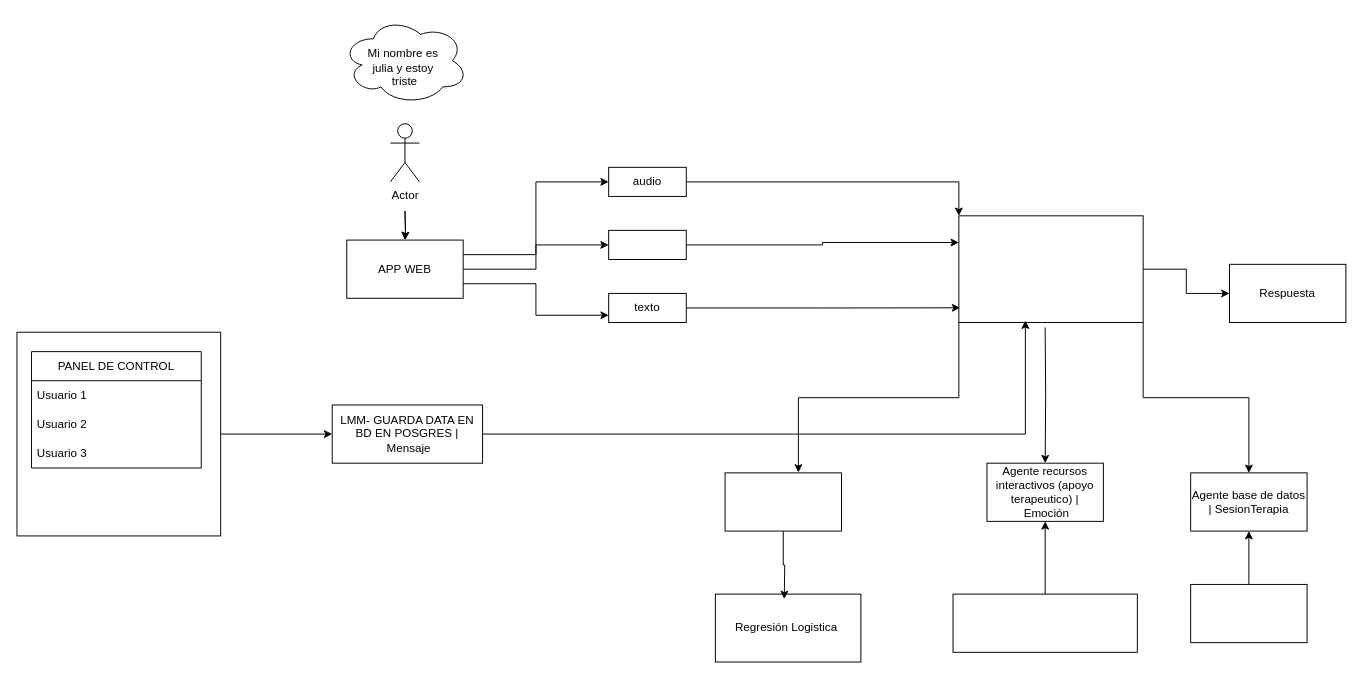
Image size: 1363x679. Some labels were removed from this diagram. Each missing label, with the box of its shape:
Agente analisis de datos | AlmaIA: (724, 472, 841, 531)
Agente Multimodal | AlmaBotTerapia: (958, 215, 1143, 323)
HL (Historial de chat): (1190, 583, 1307, 643)
imagen: (608, 229, 686, 259)
RLM (Contenerdor de recursos): (952, 593, 1137, 652)
